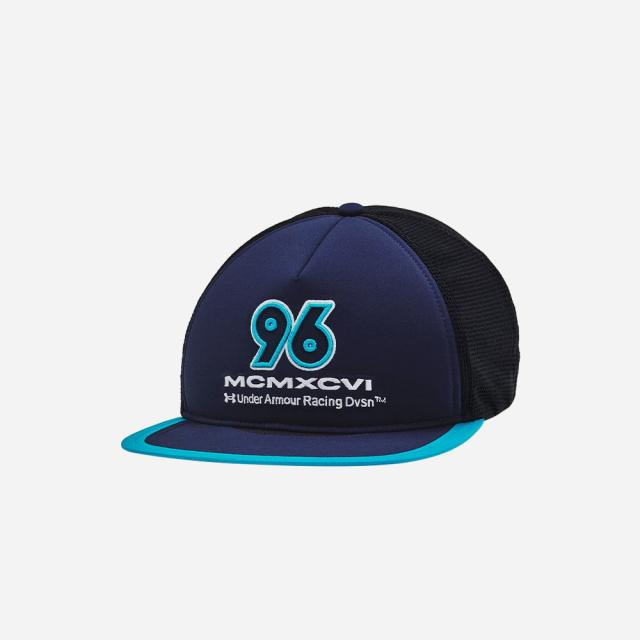Nonhelmet: (119, 197, 524, 470)
